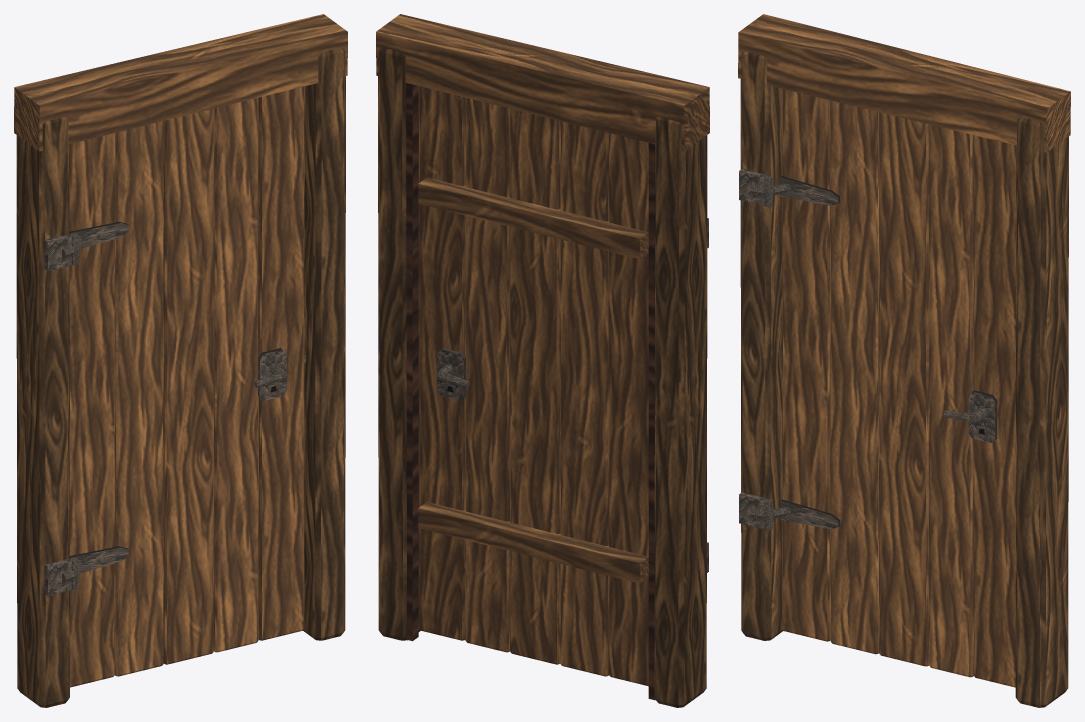
File: Porta.glb
3 views of the same model, side by side, from view 1: azimuth 30°, elevation 25°; view 2: azimuth 150°, elevation 25°; view 3: azimuth 330°, elevation 25° (orthographic).
Visible parts, largest first — view 1: Folha, Batente, Dobradiças do batente, Ferragens da folha, Maçanetas; view 2: Folha, Batente, Travessas traseiras, Rebaixo do batente, Maçanetas; view 3: Folha, Batente, Ferragens da folha, Dobradiças do batente, Maçanetas.
Boxes of the visible parts, x1,y1,x2,y2 form: Folha: (69,86,304,687); Batente: (14,14,347,707); Dobradiças do batente: (44,233,78,595); Ferragens da folha: (69,222,128,581); Maçanetas: (254,348,286,400); Folha: (419,86,648,686); Batente: (376,14,709,707); Travessas traseiras: (418,177,648,583); Rebaixo do batente: (406,83,655,700); Maçanetas: (436,348,469,400); Folha: (782,89,1016,687); Batente: (738,14,1070,707); Ferragens da folha: (763,176,839,529); Dobradiças do batente: (739,169,772,530); Maçanetas: (943,390,997,442).
Bounding box in the file's own units: 1.16 × 2.16 × 0.2476.
6 materials, 6 textured.
